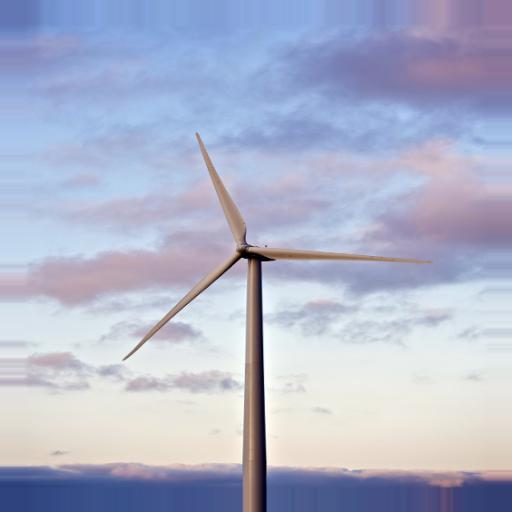wind turbine: (119, 129, 438, 503)
